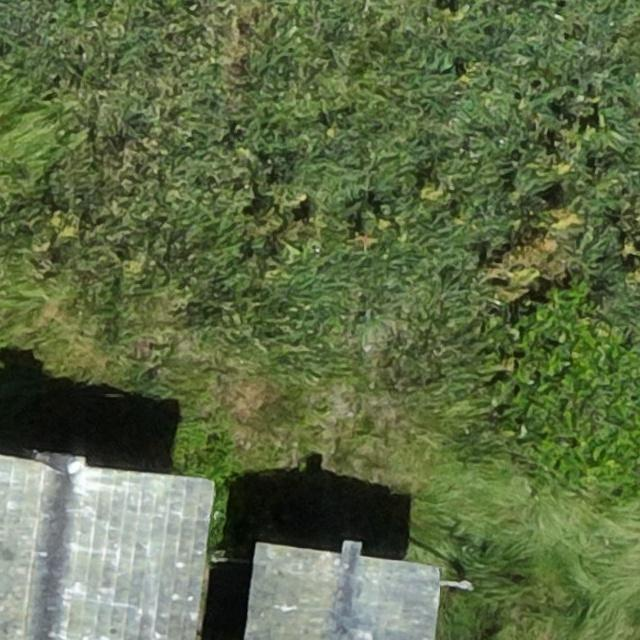umineko: (34, 448, 81, 474)
